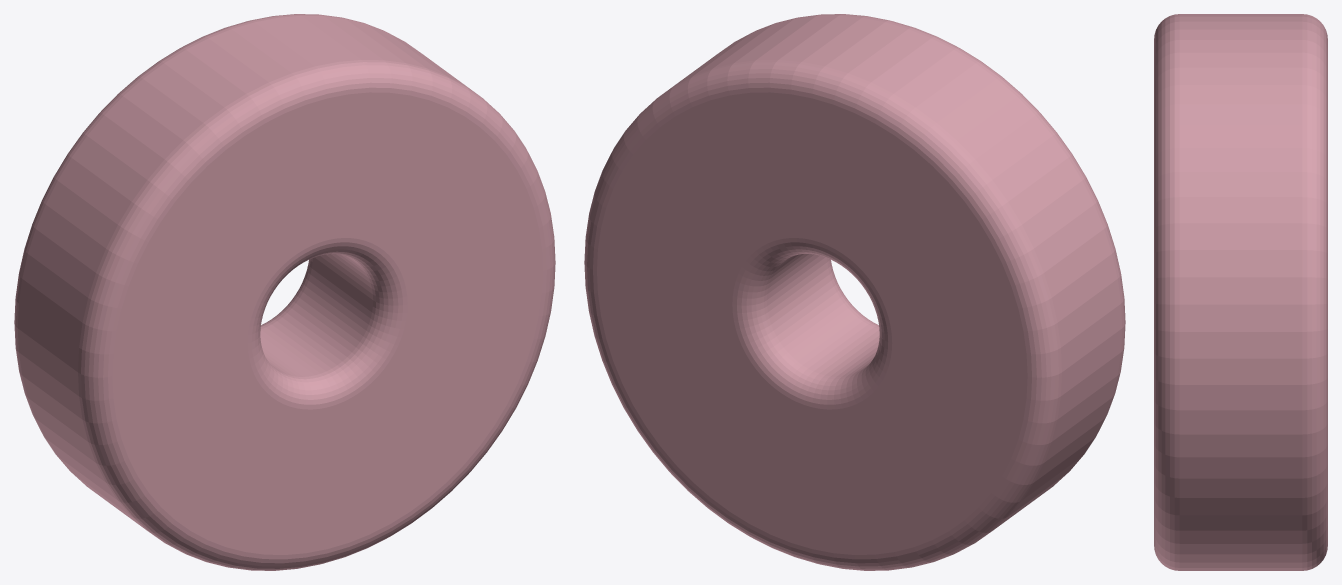
File: ring_04.glb
The picture shows the model from 3 angles, left to right: view 1: azimuth 30°, elevation 25°; view 2: azimuth 150°, elevation 25°; view 3: azimuth 270°, elevation 25°; orthographic projection.
Visible parts, largest first — view 1: world; view 2: world; view 3: world.
Boxes of the visible parts, bbox=[...] form: world: bbox=[14, 14, 555, 570]; world: bbox=[584, 14, 1125, 570]; world: bbox=[1154, 14, 1327, 570].
Size of the model in its own units: 0.0653 by 0.0653 by 0.0204.
